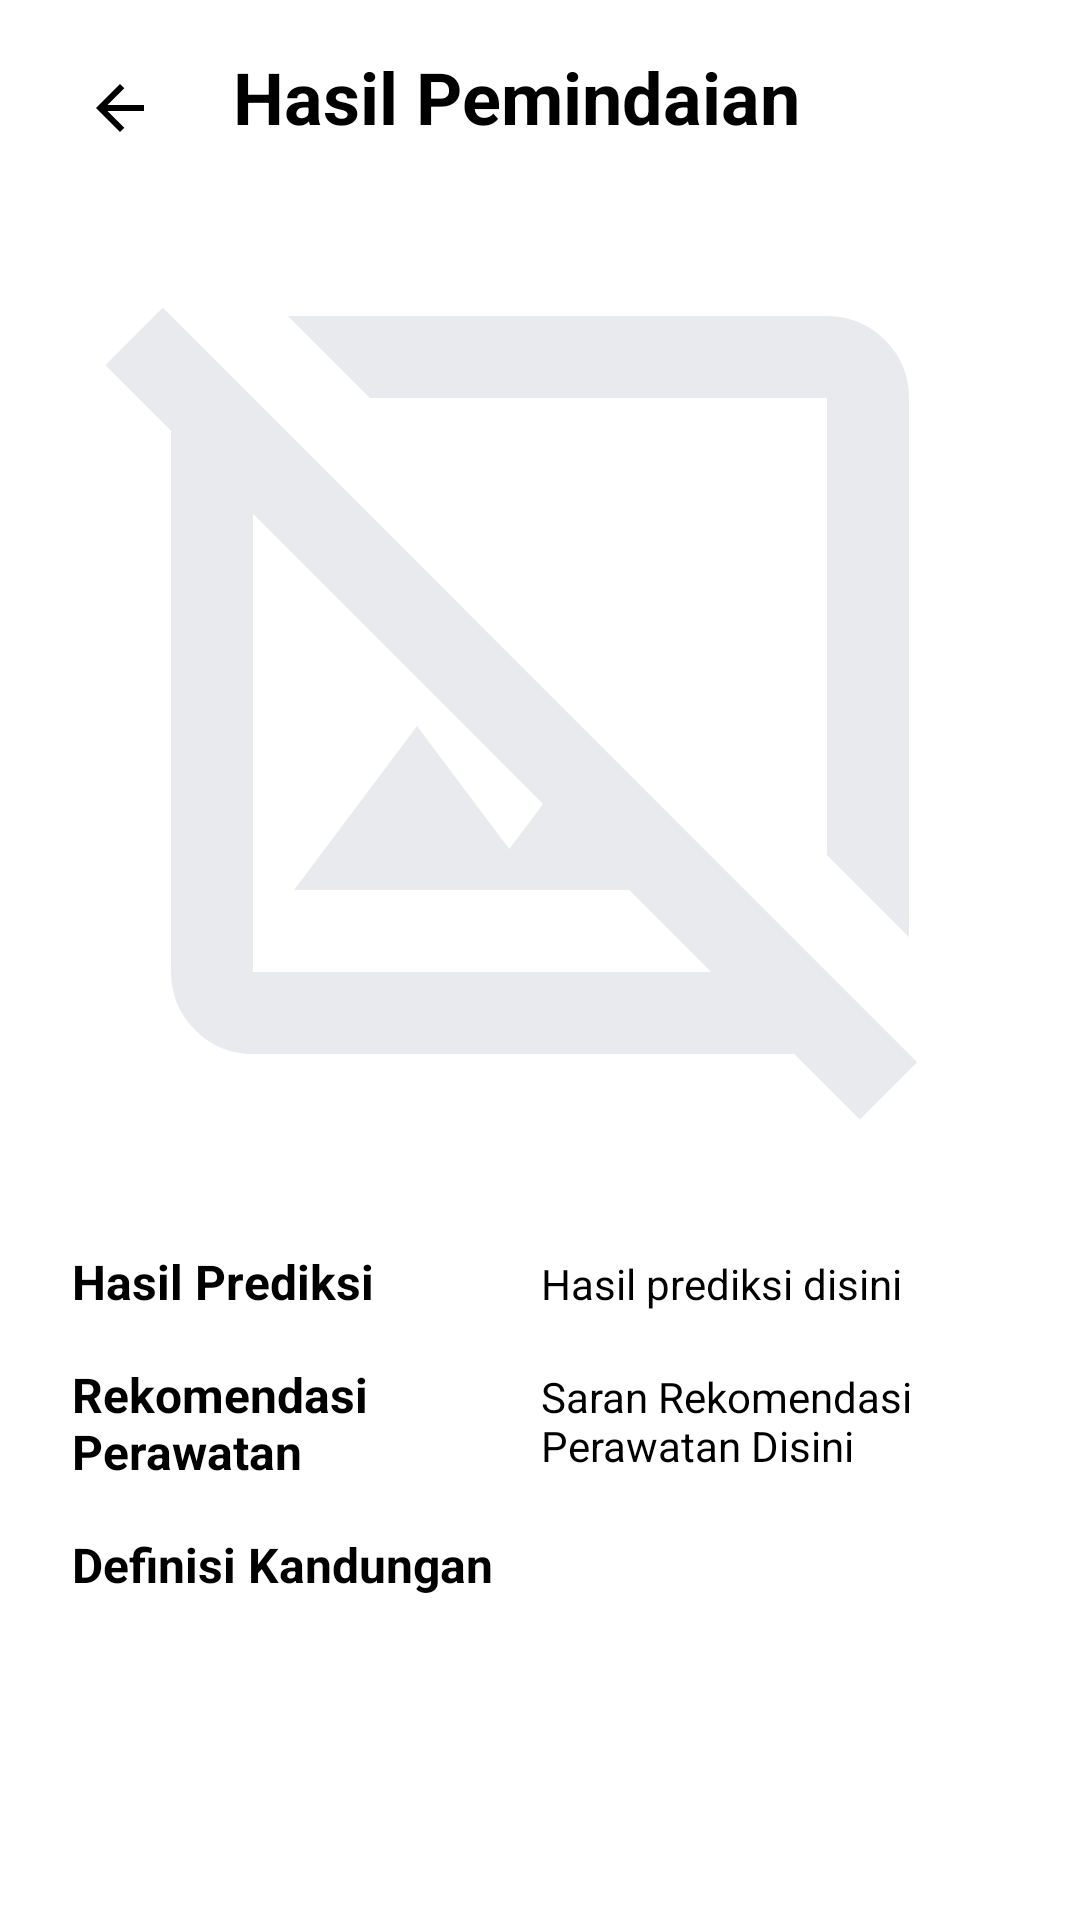

Icon click points for this 1080*1920 phone screenshot, format (x=x, y=y):
Kembali: (x=120, y=108)
